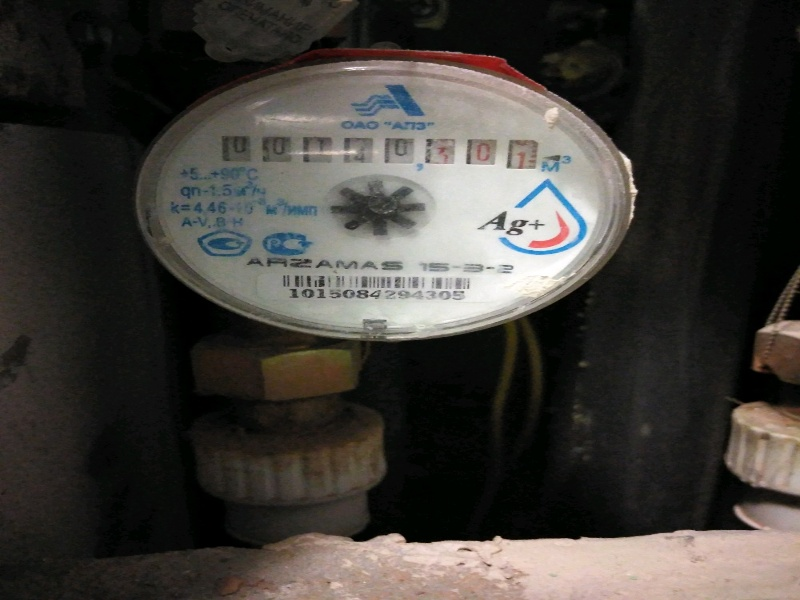meter: (216, 126, 539, 178)
